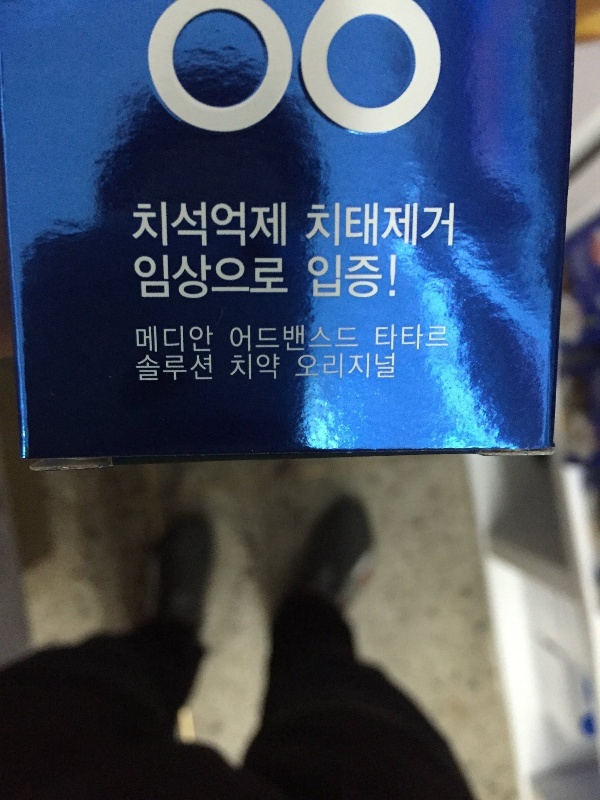text: (305, 1, 320, 146), (321, 1, 336, 146), (337, 1, 352, 146), (353, 1, 368, 146), (369, 1, 384, 146), (385, 1, 400, 146), (401, 1, 416, 146), (417, 1, 432, 146), (433, 1, 448, 146), (145, 4, 160, 146), (161, 4, 176, 146), (177, 4, 192, 146), (193, 4, 208, 146), (209, 4, 224, 146), (225, 4, 240, 146), (241, 4, 256, 146), (257, 4, 272, 146), (273, 4, 288, 146), (289, 4, 304, 146), (290, 1, 304, 146), (449, 1, 461, 146), (132, 4, 144, 146), (145, 251, 160, 305), (161, 251, 176, 305), (177, 251, 192, 305), (193, 251, 208, 305), (209, 251, 224, 305), (225, 251, 240, 305), (241, 251, 256, 305), (257, 251, 272, 305), (273, 251, 288, 305), (321, 199, 336, 250), (337, 199, 352, 250), (353, 199, 368, 250), (369, 199, 384, 250), (385, 199, 400, 250), (401, 199, 416, 250), (417, 199, 432, 250), (433, 199, 448, 250), (321, 251, 336, 301), (337, 251, 352, 301), (353, 251, 368, 301), (369, 251, 384, 301), (145, 201, 160, 250), (161, 201, 176, 250), (177, 201, 192, 250), (193, 201, 208, 250), (209, 201, 224, 250), (225, 201, 240, 250), (241, 201, 256, 250), (257, 201, 272, 250), (273, 201, 288, 250), (307, 199, 320, 250), (132, 251, 144, 305), (308, 251, 320, 301), (385, 251, 397, 301), (132, 201, 144, 250), (241, 322, 256, 355), (257, 322, 272, 355), (273, 322, 288, 355), (289, 322, 304, 355), (305, 322, 320, 355), (321, 322, 336, 355), (337, 322, 352, 355), (145, 324, 160, 356), (161, 324, 176, 356), (177, 324, 192, 356), (193, 324, 208, 356), (145, 353, 160, 385), (161, 353, 176, 385), (177, 353, 192, 385), (193, 353, 208, 385), (433, 324, 449, 353), (241, 352, 256, 382), (257, 352, 272, 382), (305, 352, 320, 381), (321, 352, 336, 381), (337, 352, 352, 381), (353, 352, 368, 381), (369, 352, 384, 381), (385, 324, 400, 353), (401, 324, 416, 353), (417, 324, 432, 353), (449, 199, 456, 250), (230, 322, 240, 355), (385, 352, 395, 381), (135, 324, 144, 356), (232, 352, 240, 382), (273, 352, 281, 382), (376, 324, 384, 353), (353, 322, 360, 355), (137, 353, 144, 385), (209, 324, 214, 356), (209, 353, 214, 385), (300, 352, 304, 381), (289, 251, 290, 305)
